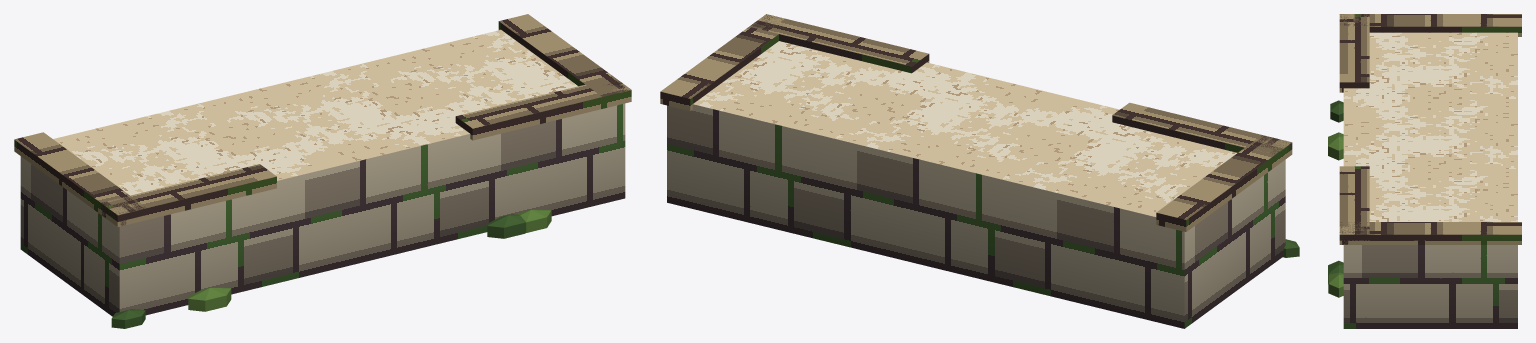
Rendered from scene_plat_f10.glb.
The picture shows the model from 3 angles, left to right: view 1: azimuth 30°, elevation 25°; view 2: azimuth 150°, elevation 25°; view 3: azimuth 270°, elevation 25°; orthographic projection. The views are drawn at different scales.
Visible parts, largest first — view 1: scene_plat_f10; view 2: scene_plat_f10; view 3: scene_plat_f10.
Part boxes in pixels (left/top/right/bottom): scene_plat_f10: left=14, top=14, right=631, bottom=328; scene_plat_f10: left=660, top=14, right=1299, bottom=328; scene_plat_f10: left=1328, top=14, right=1521, bottom=328.
Bounding box in the file's own units: 6.38 × 1.37 × 2.34.
Materials: 3 (2 with a texture image).
